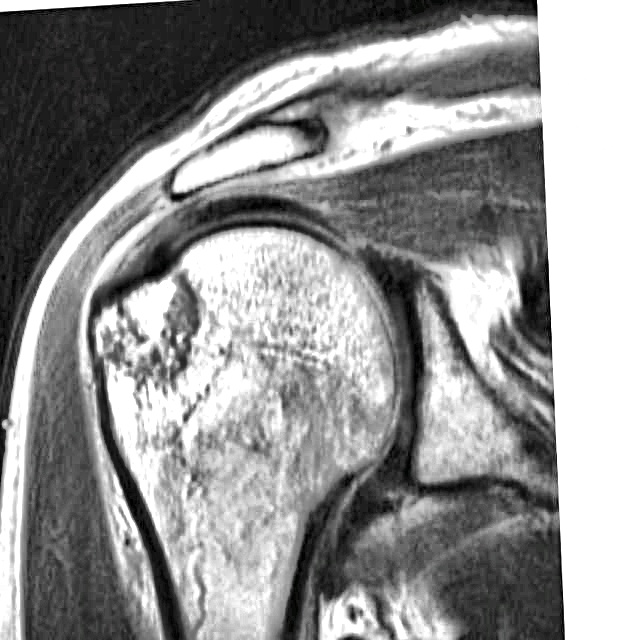Comminuted: (86, 257, 206, 375)
